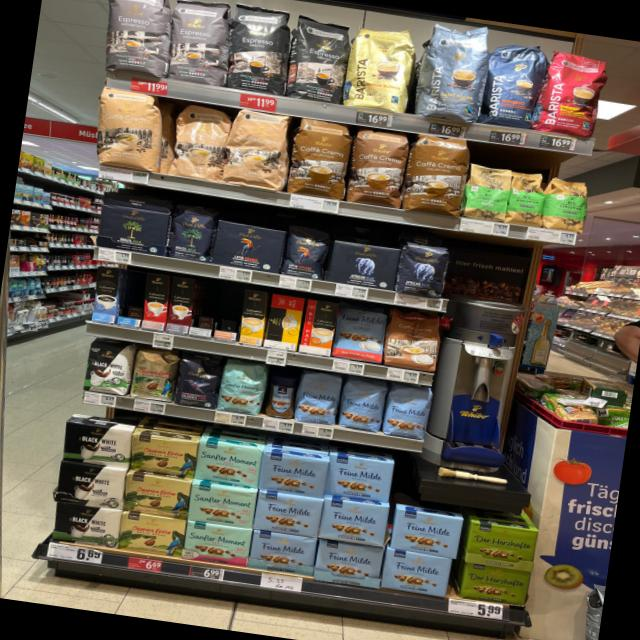AB Bohne: (394, 238, 450, 300)
AB Gemahlen: (328, 239, 402, 293)
Athiopien Bohne: (539, 174, 593, 236), (502, 170, 548, 230)
Athiopien Gemahlen: (461, 162, 514, 225)
BM Bohne: (166, 207, 220, 264)
BM Gemahlen: (94, 202, 172, 258)
BW Bohne: (82, 338, 136, 396)
BW Gemahlen: (52, 458, 130, 514), (60, 420, 136, 470), (50, 502, 125, 550)
Barista CB: (339, 22, 421, 117)
Barista CC: (408, 17, 497, 127)
Barista Espresso: (480, 38, 553, 132)
Barista Kolumbien: (534, 48, 608, 141)
C Fino Bohne: (170, 352, 226, 413)
CC Mild: (220, 107, 297, 192), (93, 86, 164, 175), (168, 102, 234, 182)
CC Vollmundig: (381, 310, 445, 374)
CC Vollmundig 36 Pads: (399, 132, 475, 220), (284, 118, 356, 202), (343, 127, 411, 210)
Colombia BB Bohne: (128, 344, 180, 406)
Colombia BB Gemahlen: (121, 473, 196, 520), (126, 432, 201, 479), (118, 514, 188, 559)
Empty Shelf: (190, 280, 244, 342)
Espresso Aromatisch: (161, 0, 241, 91), (97, 0, 182, 81)
Espresso Kraftig: (220, 0, 298, 99), (282, 12, 354, 106)
FM 36 Pads: (330, 303, 390, 365)
FM Bohne: (380, 381, 432, 443), (292, 370, 345, 428), (337, 376, 388, 434)
FM Gemahlen: (245, 525, 322, 581), (318, 496, 394, 550), (311, 538, 389, 590), (378, 547, 454, 600), (389, 506, 463, 560), (252, 488, 324, 540), (324, 454, 396, 506), (258, 448, 330, 499)
FM Instant: (262, 374, 302, 422)
Herzhatfe Mundig: (460, 520, 542, 575), (457, 562, 531, 610)
LG Bohne: (280, 230, 330, 282)
LG Gemahlen: (211, 219, 286, 274)
SM Bohne: (213, 358, 270, 419)
SM Gemahlen: (192, 437, 268, 492), (184, 481, 260, 530), (182, 520, 254, 568)
Simo CCMild bigpack: (237, 289, 270, 347)
Simo CCVollmundig: (300, 298, 339, 357)
Simo Es Elegant: (140, 272, 174, 332)
Simo Es Kraft: (164, 276, 198, 334)
Simo Kaffee Mild: (90, 264, 125, 324)
